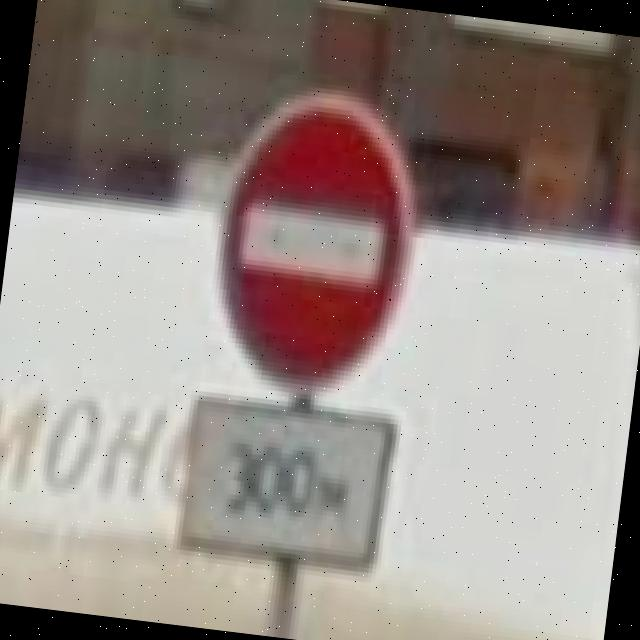Zakaz wjazdu: (200, 77, 430, 409)
